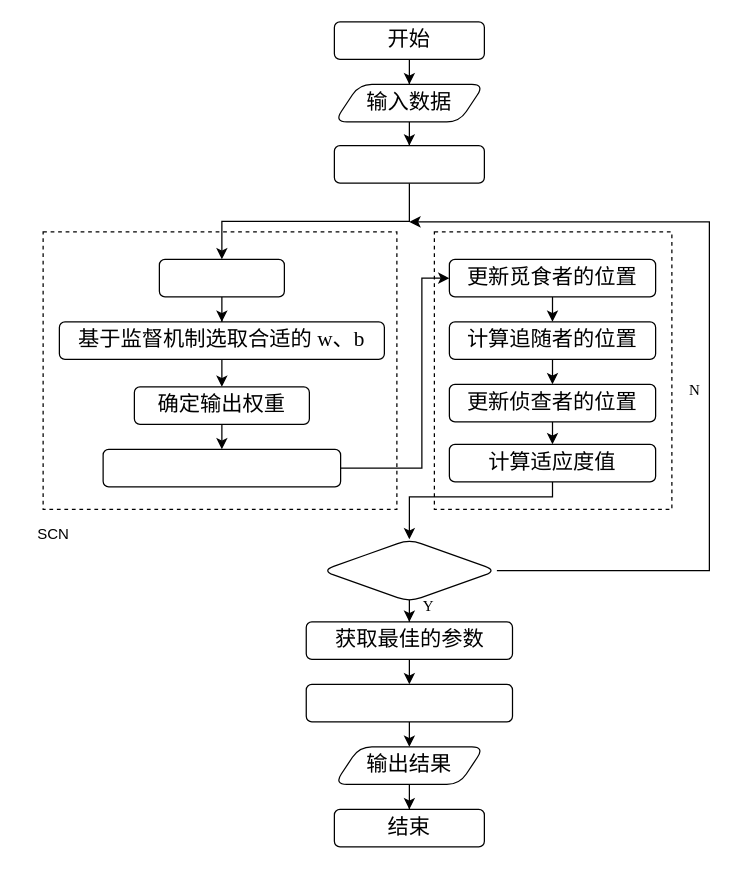
Image size: 741x869. Some labels were removed from this diagram. Here are the shapes that lost their labels. From the top down, the centre of each, then its label:
At (408,163): "初始化参数".
At (221,277): "计算残差".
At (221,467): "增加隐含层的节点".
At (409,570): "终止条件？".
At (408,702): "构建并训练SCN".
